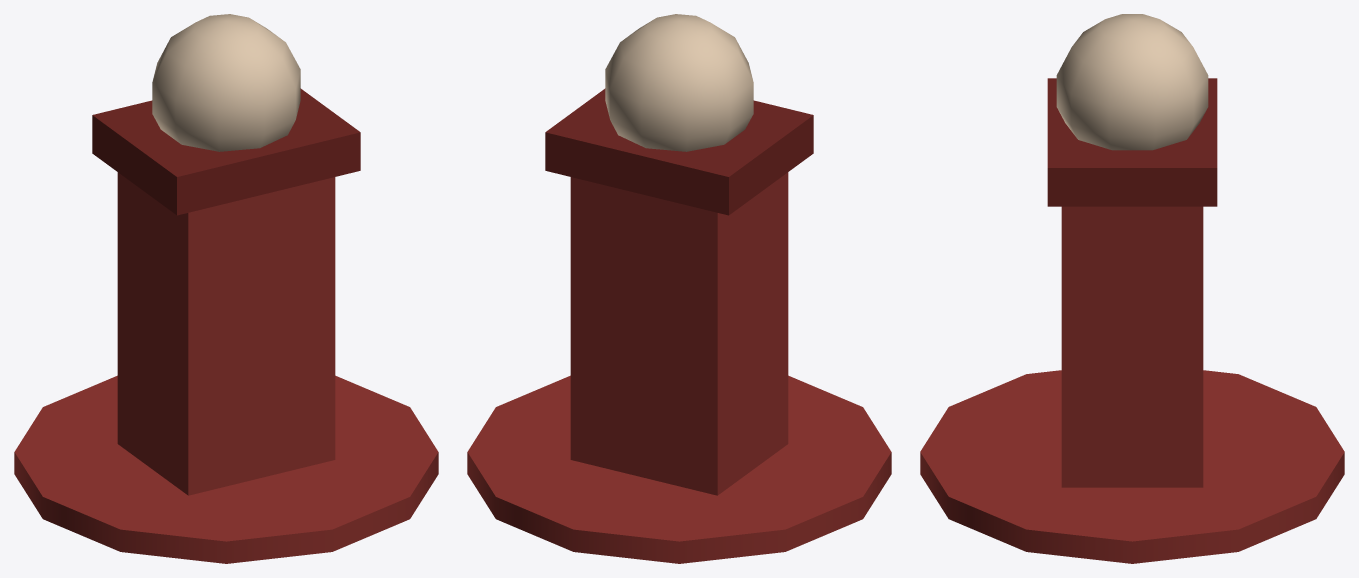
File: xue_mai_xiu_shi.glb
3 renders of one model, left to right at view 1: azimuth 30°, elevation 25°; view 2: azimuth 150°, elevation 25°; view 3: azimuth 270°, elevation 25°, orthographic.
Visible parts, largest first — view 1: _MeshInstance3D_43, _MeshInstance3D_42, _MeshInstance3D_45, _MeshInstance3D_44; view 2: _MeshInstance3D_43, _MeshInstance3D_42, _MeshInstance3D_45, _MeshInstance3D_44; view 3: _MeshInstance3D_42, _MeshInstance3D_43, _MeshInstance3D_44, _MeshInstance3D_45.
Part boxes in pixels (x1,y1,x2,y2): _MeshInstance3D_43: (117,172,335,495); _MeshInstance3D_42: (14,375,438,563); _MeshInstance3D_45: (92,88,360,215); _MeshInstance3D_44: (152,14,300,151); _MeshInstance3D_43: (570,172,788,495); _MeshInstance3D_42: (467,375,891,563); _MeshInstance3D_45: (545,88,813,215); _MeshInstance3D_44: (605,14,753,151); _MeshInstance3D_42: (920,370,1344,563); _MeshInstance3D_43: (1061,206,1203,487); _MeshInstance3D_44: (1056,14,1208,150); _MeshInstance3D_45: (1047,78,1217,206).
Bounding box in the file's own units: 0.6 × 0.7075 × 0.6.
